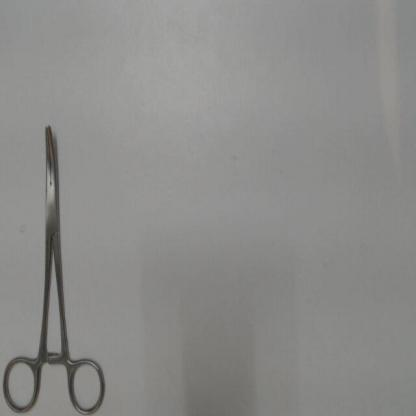Crile Artery Forceps: (1, 115, 110, 414)
